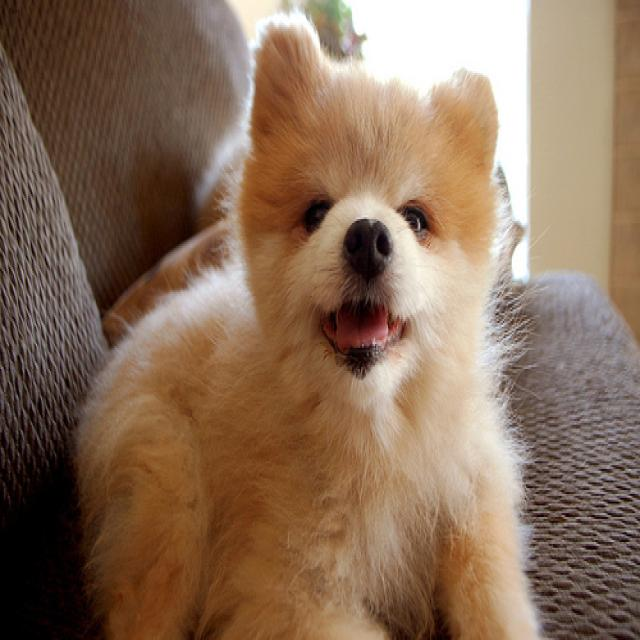dog-pomeranian: (67, 2, 552, 636)
